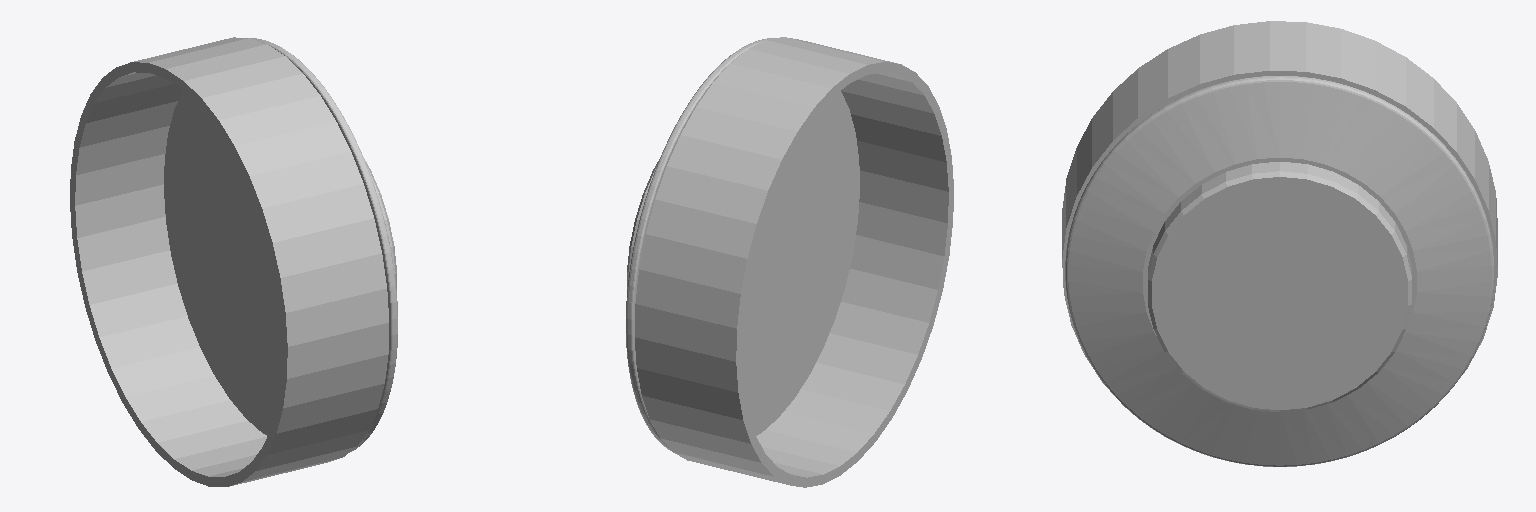
The model's file is wrist_roll_link.obj.
The picture shows the model from 3 angles: view 1: azimuth 30°, elevation 25°; view 2: azimuth 150°, elevation 25°; view 3: azimuth 270°, elevation 25°; orthographic projection.
Parts seen in each view (by area): view 1: wrist_roll_link_wrist roll link.001_Material_001.037; view 2: wrist_roll_link_wrist roll link.001_Material_001.037; view 3: wrist_roll_link_wrist roll link.001_Material_001.037.
Part boxes in pixels (x1,y1,x2,y2): wrist_roll_link_wrist roll link.001_Material_001.037: (70,37,397,486); wrist_roll_link_wrist roll link.001_Material_001.037: (626,37,953,487); wrist_roll_link_wrist roll link.001_Material_001.037: (1062,21,1497,466).
Size of the model in its own units: 0.0425 by 0.1039 by 0.1039.